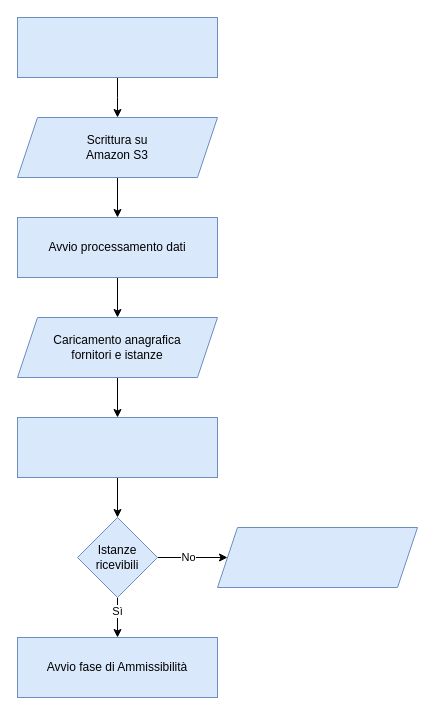
The diagram is 435 pixels wide and 715 high, and some of its shapes have lost their labels. Each missing label, with the centre of its shape:
Avvio fase di Ricevibilità: pixel 117 447
Caricamento input manuale: pixel 117 47
Modifica istanze con dettagli di non ricevibilità: pixel 317 557
